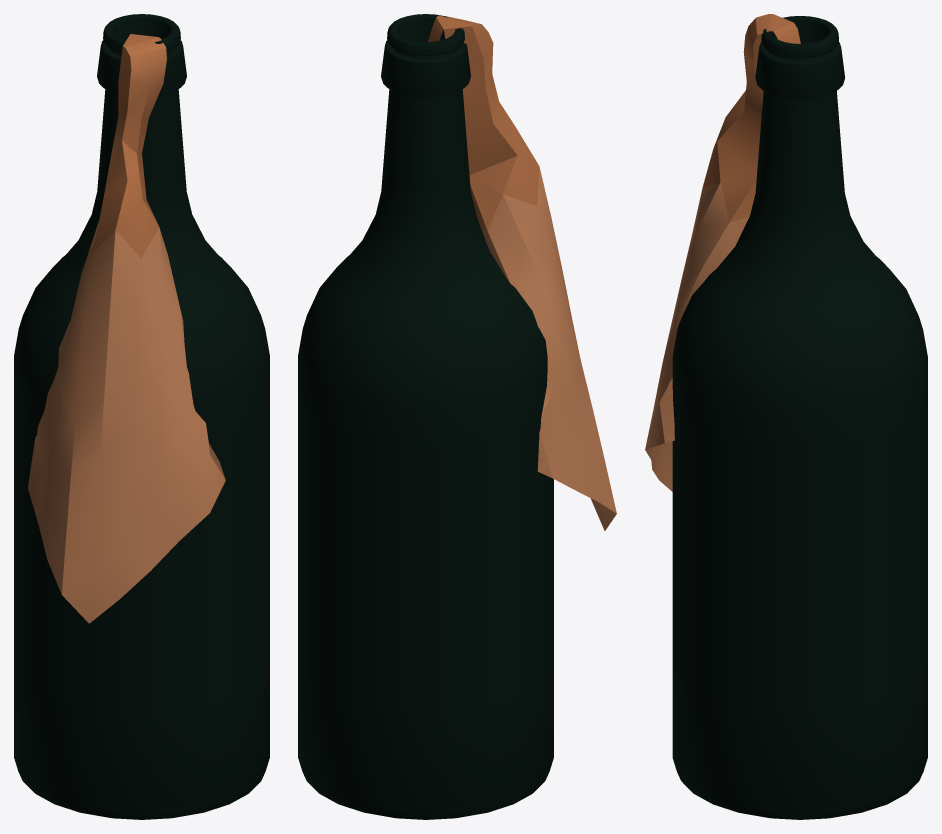
File: Bottles_03.glb
3 views of the same model, side by side, from view 1: azimuth 30°, elevation 25°; view 2: azimuth 150°, elevation 25°; view 3: azimuth 270°, elevation 25° (orthographic).
Parts seen in each view (by area): view 1: Mesh_Bottles_03; view 2: Mesh_Bottles_03; view 3: Mesh_Bottles_03.
Boxes of the visible parts, left/top/right/bottom form: Mesh_Bottles_03: left=14, top=14, right=269, bottom=819; Mesh_Bottles_03: left=298, top=14, right=616, bottom=819; Mesh_Bottles_03: left=645, top=14, right=927, bottom=819.
Bounding box in the file's own units: 0.0786 × 0.2273 × 0.0784.
Materials: 1 (1 with a texture image).
